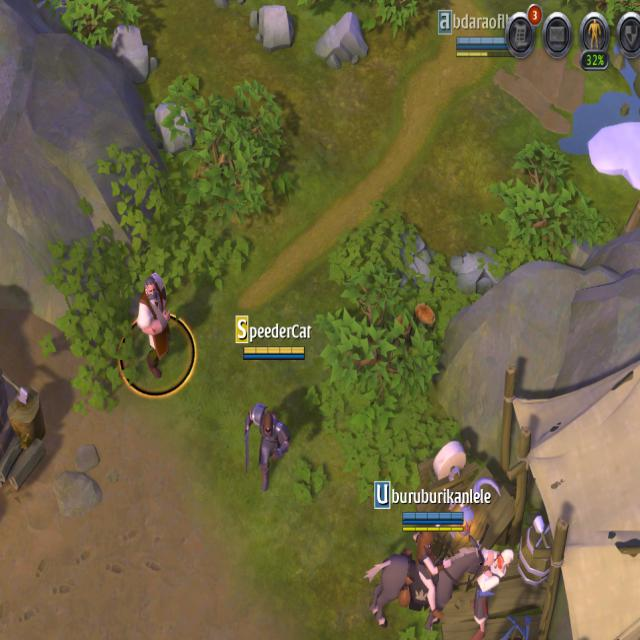broken stone: (448, 248, 510, 300), (392, 226, 437, 295)
stone: (312, 8, 372, 73), (108, 21, 160, 87), (246, 3, 297, 58), (152, 98, 196, 157)
